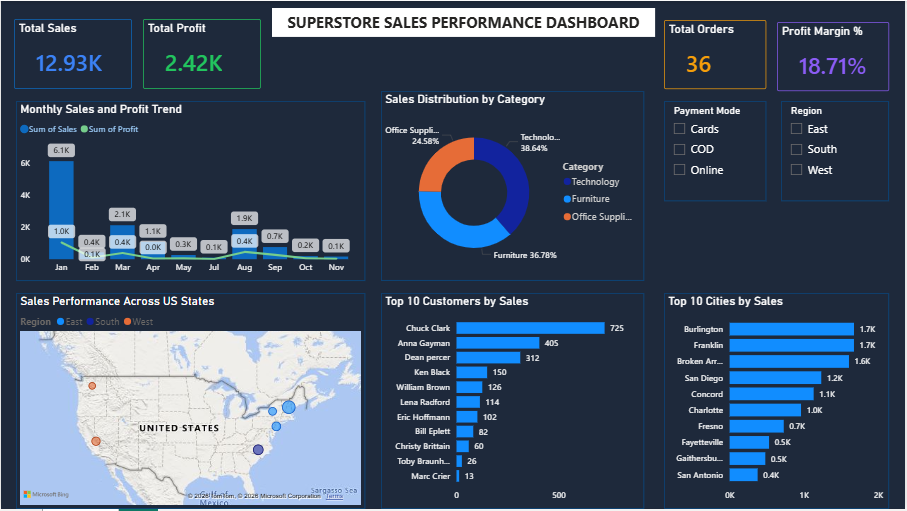

Layout of this report page (visuals, bound fields, positions):
{"tool":"powerbi","page":{"name":"Page 1","canvas":[1280,720],"ordinal":0},"visuals":[{"type":"barChart","title":"Top 10 Cities by Sales","fields":{"Category":["superstore superstore_sales_dataset.City"],"Y":["Sum(superstore superstore_sales_dataset.Sales)"]},"box":[939.7,413.9,318.9,306.1],"z":0},{"type":"barChart","title":"Top 10 Customers by Sales","fields":{"Category":["superstore superstore_sales_dataset.Customer Name"],"Y":["Sum(superstore superstore_sales_dataset.Sales)"]},"box":[538.6,413.9,372.8,306.1],"z":1000},{"type":"lineStackedColumnComboChart","title":"Monthly Sales and Profit Trend","fields":{"Category":["superstore superstore_sales_dataset.Month"],"Y":["Sum(superstore superstore_sales_dataset.Sales)"],"Y2":["Sum(superstore superstore_sales_dataset.Profit)"]},"box":[21.3,141.7,494.6,255.1],"z":2000},{"type":"donutChart","title":"Sales Distribution by Category","fields":{"Y":["Sum(superstore superstore_sales_dataset.Sales)"],"Category":["superstore superstore_sales_dataset.Category"]},"box":[538.6,127.6,372.8,269.3],"z":3000},{"type":"cardVisual","title":"Total Orders","fields":{"Data":["superstore superstore_sales_dataset.Total Orders"]},"box":[939.7,26.9,144.6,97.8],"z":4000},{"type":"cardVisual","title":"Total Profit","fields":{"Data":["Sum(superstore superstore_sales_dataset.Profit)"]},"box":[201.3,25.5,167.2,99.2],"z":5000},{"type":"map","title":"Sales Performance Across US States","fields":{"Category":["superstore superstore_sales_dataset.State"],"Size":["Sum(superstore superstore_sales_dataset.Sales)"],"Series":["superstore superstore_sales_dataset.Region"]},"box":[21.3,413.9,494.6,306.1],"z":6000},{"type":"cardVisual","title":"Total Sales","fields":{"Data":["Sum(superstore superstore_sales_dataset.Sales)"]},"box":[18.4,25.5,167.2,99.2],"z":7000},{"type":"cardVisual","title":"Profit Margin %","fields":{"Data":["superstore superstore_sales_dataset.Profit Margin %"]},"box":[1099.8,29.8,158.7,97.8],"z":8000},{"type":"slicer","title":"Top 10 Customers by Sales","fields":{"Values":["superstore superstore_sales_dataset.Payment Mode"]},"box":[939.7,141.7,144.6,141.7],"z":9000},{"type":"slicer","title":"Top 10 Customers by Sales","fields":{"Values":["superstore superstore_sales_dataset.Region"]},"box":[1105.5,141.7,153.1,141.7],"z":10000},{"type":"textbox","box":[384.1,9.9,542.8,41.1],"z":11000}]}

Visuals, with their boxes in screenshot pixels (x1, y1, x2, y2), scaled from the page's 1280x720 canvas onto the 907x511 screenshot:
"Top 10 Cities by Sales" barChart: 666/294/892/510
"Top 10 Customers by Sales" barChart: 382/294/646/510
"Monthly Sales and Profit Trend" lineStackedColumnComboChart: 15/101/366/282
"Sales Distribution by Category" donutChart: 382/91/646/282
"Total Orders" cardVisual: 666/19/768/89
"Total Profit" cardVisual: 143/18/261/89
"Sales Performance Across US States" map: 15/294/366/510
"Total Sales" cardVisual: 13/18/132/89
"Profit Margin %" cardVisual: 779/21/892/91
"Top 10 Customers by Sales" slicer: 666/101/768/201
"Top 10 Customers by Sales" slicer: 783/101/892/201
textbox: 272/7/657/36
